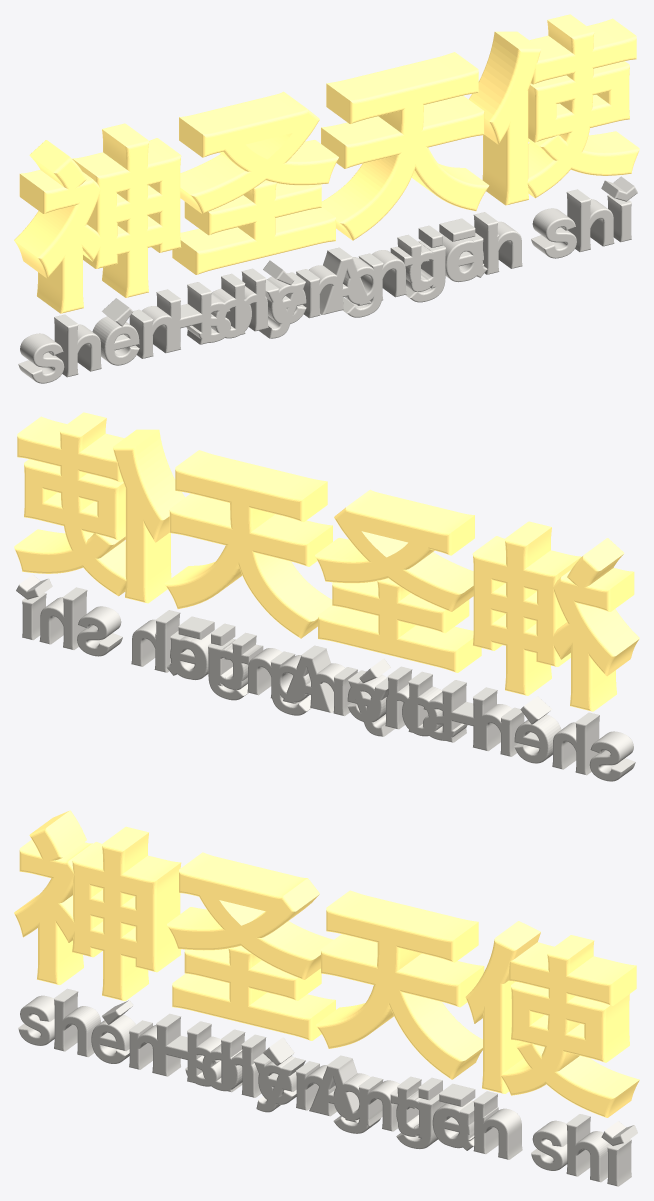
File: holy.glb
3 renders of one model, top to bottom at view 1: azimuth 30°, elevation 25°; view 2: azimuth 150°, elevation 25°; view 3: azimuth 330°, elevation 25°, orthographic.
Parts seen in each view (by area): view 1: hanzi, pinyin, english; view 2: hanzi, pinyin, english; view 3: hanzi, pinyin, english.
Boxes of the visible parts, left/top/right/bottom form: hanzi: left=14, top=14, right=639, bottom=313; pinyin: left=18, top=176, right=637, bottom=383; english: left=156, top=212, right=497, bottom=350; hanzi: left=14, top=412, right=639, bottom=711; pinyin: left=16, top=574, right=635, bottom=781; english: left=156, top=610, right=497, bottom=748; hanzi: left=14, top=810, right=639, bottom=1117; pinyin: left=18, top=988, right=637, bottom=1186; english: left=156, top=1013, right=497, bottom=1153.
Bounding box in the file's own units: 1 × 0.3724 × 0.0748.
